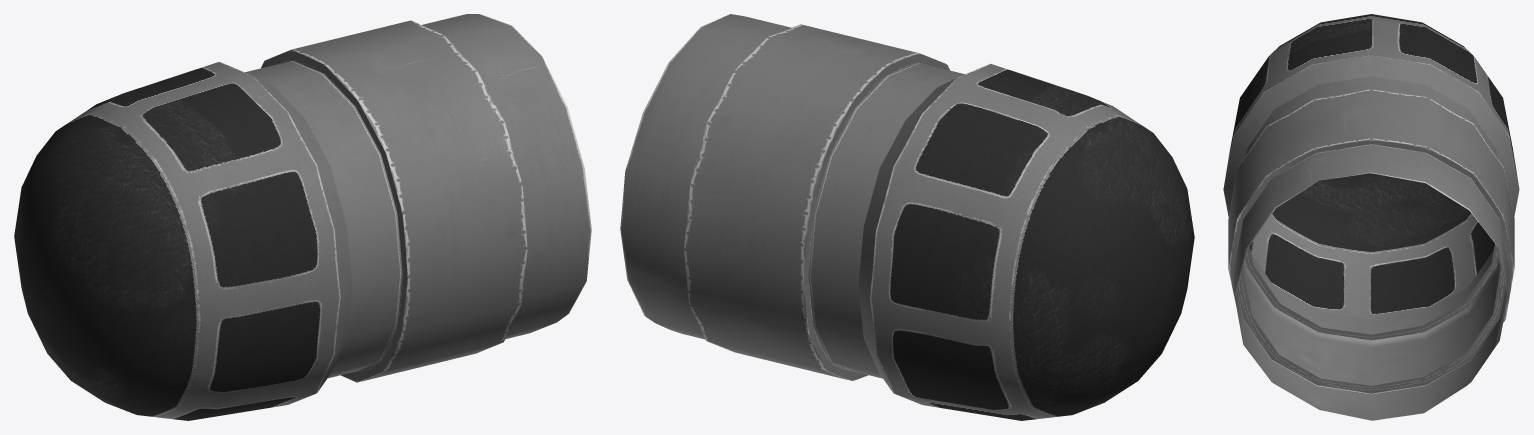
File: pommel_12_c_a.glb
3 views of the same model, side by side, from view 1: azimuth 30°, elevation 25°; view 2: azimuth 150°, elevation 25°; view 3: azimuth 270°, elevation 25° (orthographic). The views are drawn at different scales.
Parts seen in each view (by area): view 1: pommel_12_c_a_lod0; view 2: pommel_12_c_a_lod0; view 3: pommel_12_c_a_lod0.
Part boxes in pixels (x1,y1,x2,y2): pommel_12_c_a_lod0: [14, 14, 591, 420]; pommel_12_c_a_lod0: [620, 14, 1194, 420]; pommel_12_c_a_lod0: [1223, 14, 1519, 420].
Size of what is drawn, in the model's own units: 0.0482 by 0.031 by 0.031.
1 material, 1 textured.
